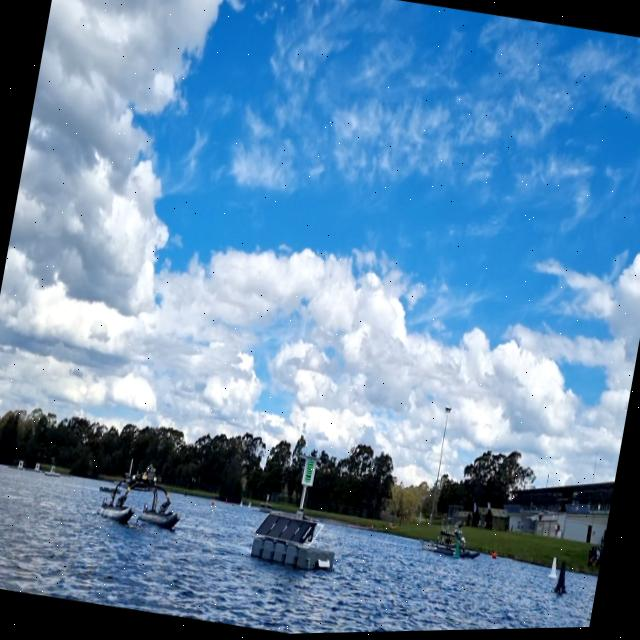led: (302, 459, 316, 486)
